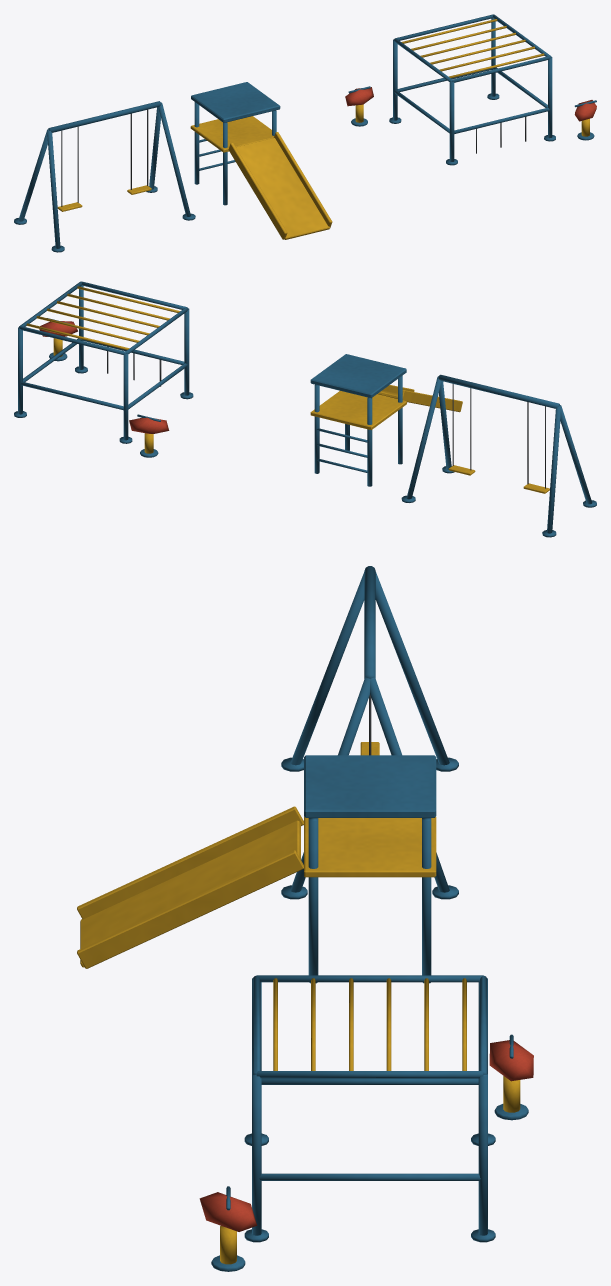
File: playground.glb
The picture shows the model from 3 angles, top to bottom: view 1: azimuth 30°, elevation 25°; view 2: azimuth 150°, elevation 25°; view 3: azimuth 270°, elevation 25°; orthographic projection. The views are drawn at different scales.
Parts seen in each view (by area): view 1: playground_v1, playground_v2; view 2: playground_v1, playground_v2; view 3: playground_v1, playground_v2.
Boxes of the visible parts, <box> form: playground_v1: <box>14,82,332,252</box>; playground_v2: <box>345,14,596,165</box>; playground_v1: <box>310,354,596,537</box>; playground_v2: <box>14,281,193,457</box>; playground_v1: <box>77,566,458,983</box>; playground_v2: <box>199,975,533,1271</box>.
Size of the model in its own units: 12.96 by 2.47 by 4.84.
2 materials, 2 textured.
